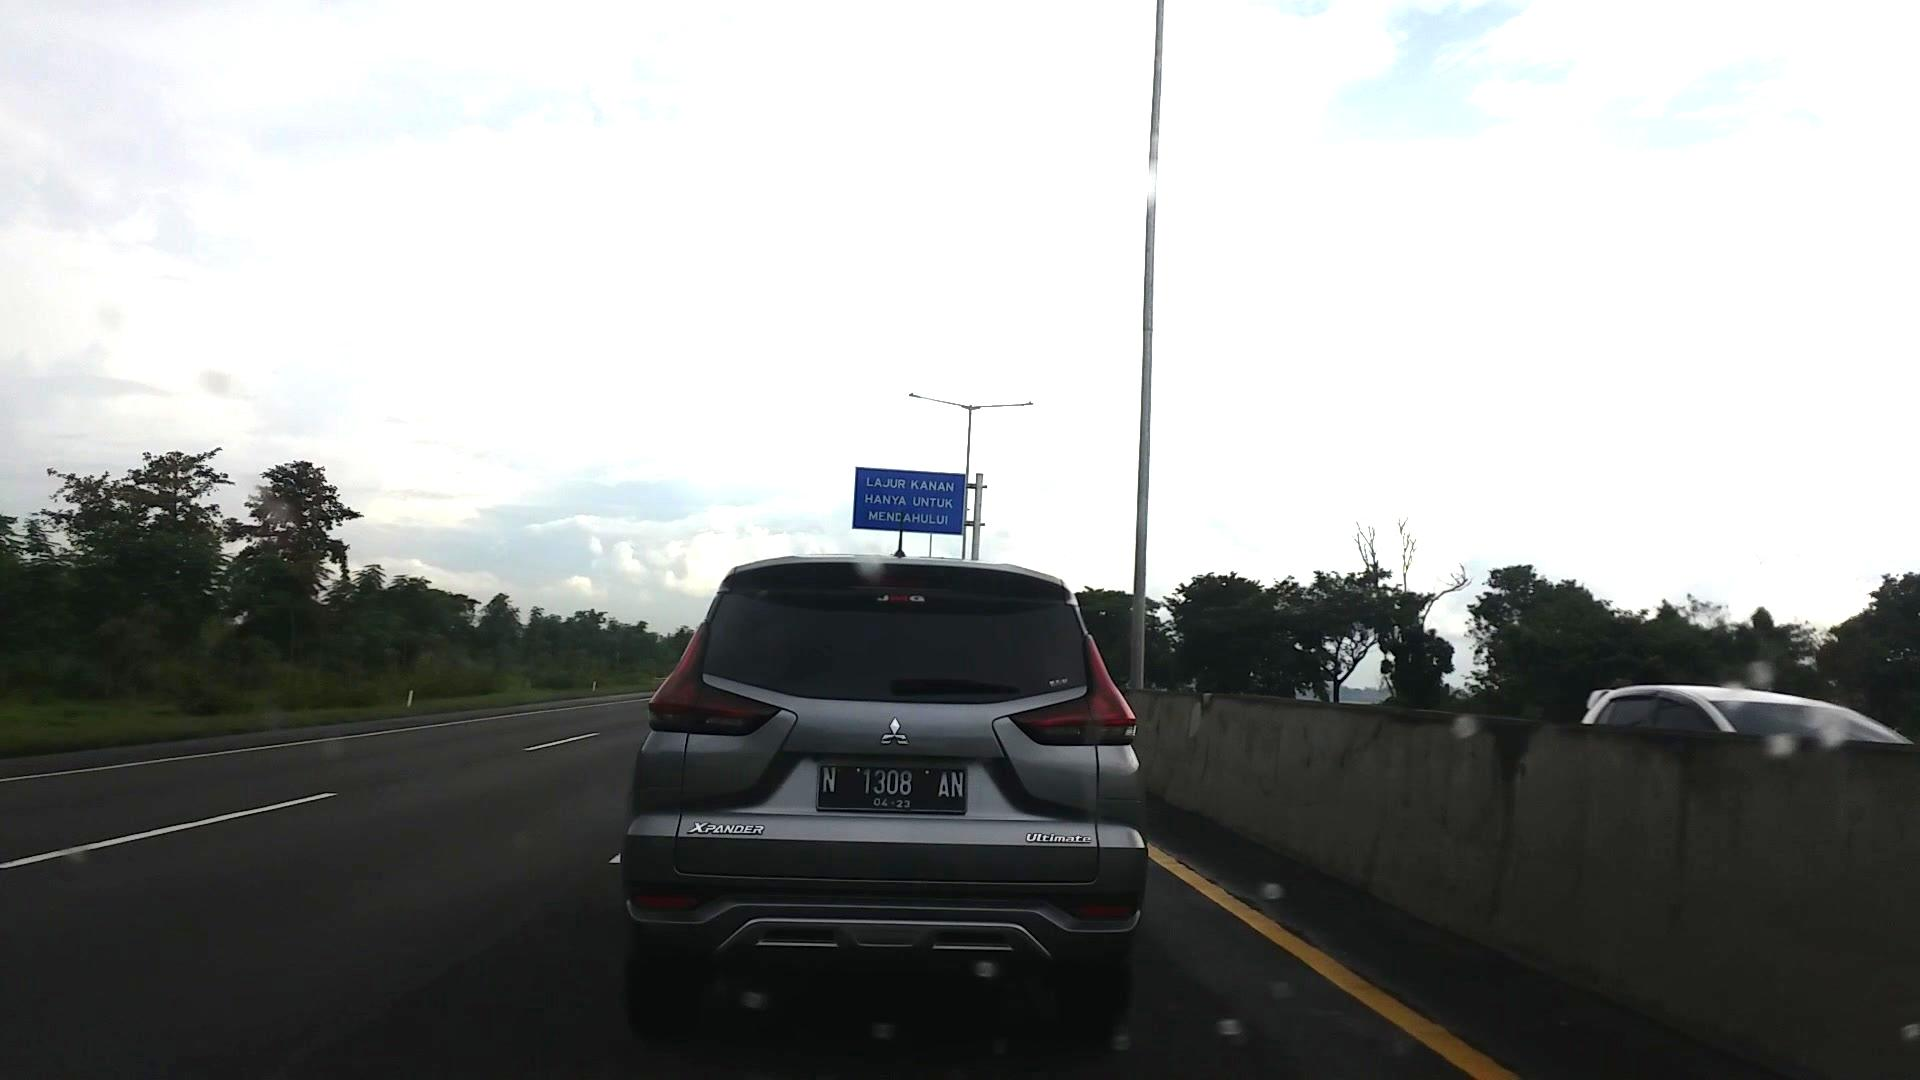plate_positive: (816, 765, 967, 815)
